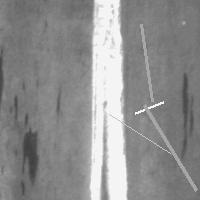scratches: (87, 1, 128, 199), (139, 100, 200, 195), (104, 109, 175, 158), (136, 19, 157, 106), (19, 112, 39, 189), (179, 71, 195, 156), (130, 97, 168, 118), (52, 83, 66, 120)
